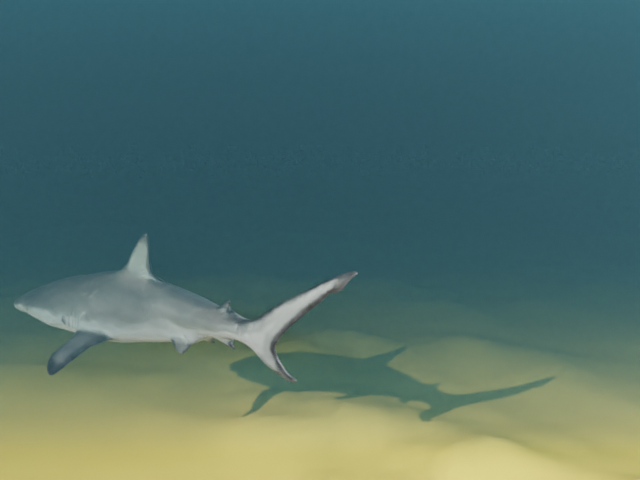Carribean Shark.001: (13, 233, 357, 382)
